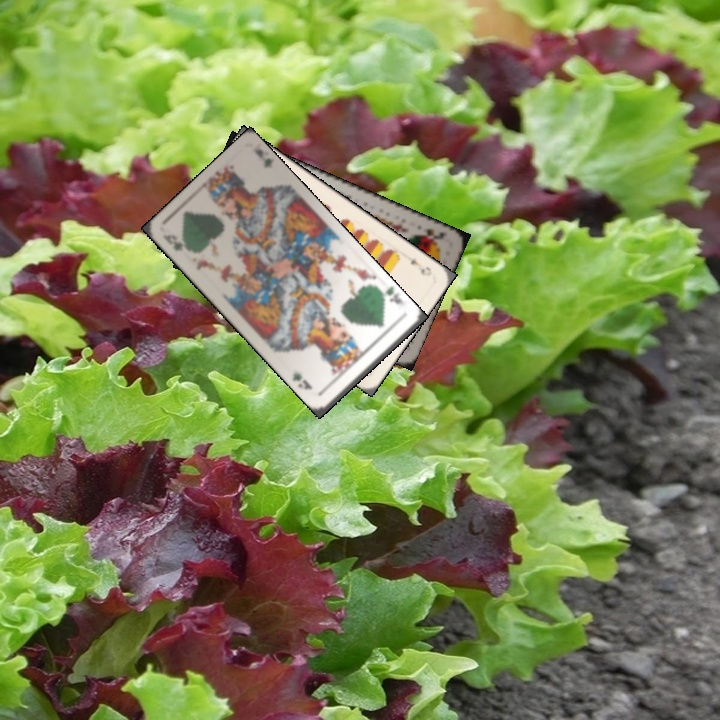E9: (406, 255, 434, 279)
GK: (375, 283, 406, 307), (159, 230, 186, 254)
SK: (413, 224, 448, 245)
